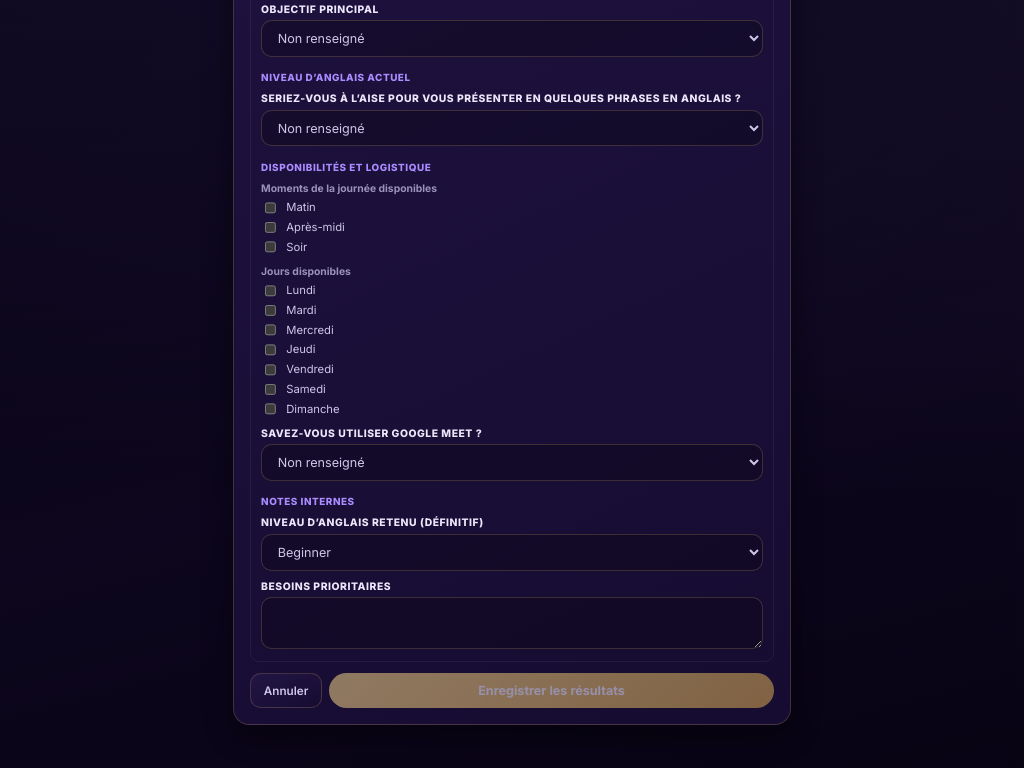
Test: ResultatsSessionOraleModale — l’enregistrement › affiche le refus du serveur plutôt qu’un message générique
(page scrolled)
Select "Advanced" in the dropdown labelled "Niveau d’anglais retenu (définitif)" at (512, 552), box [261,534,763,571]
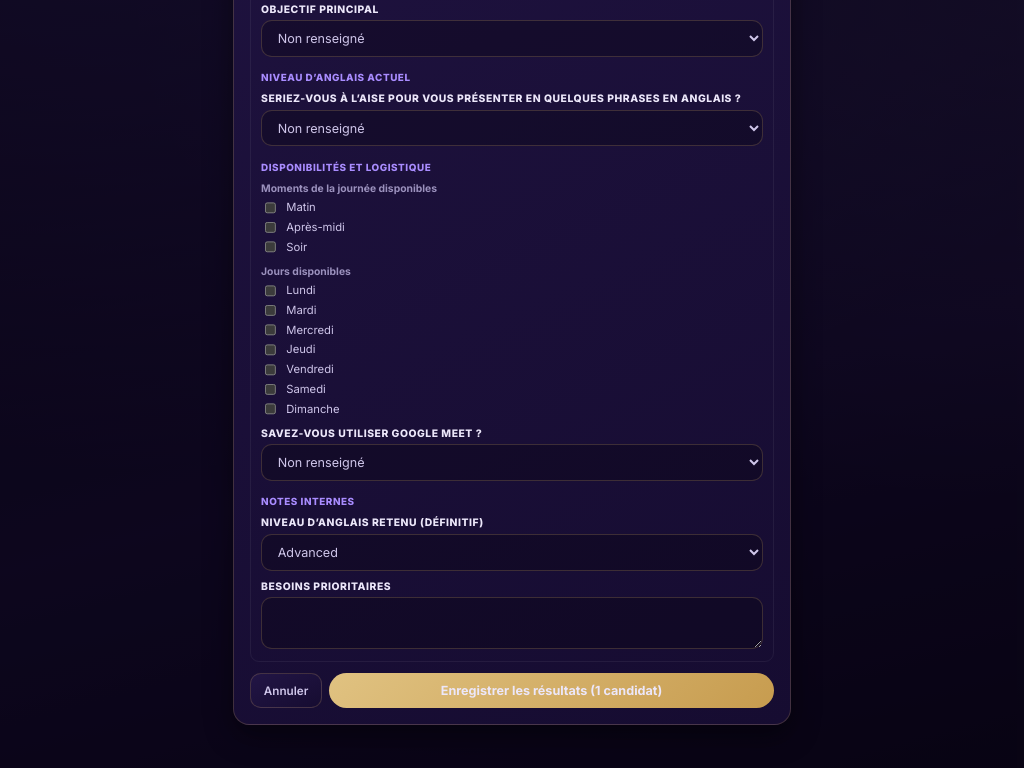
Click the button "Enregistrer les résultats (1 candidat)".
click(551, 691)  # box [329,673,774,708]
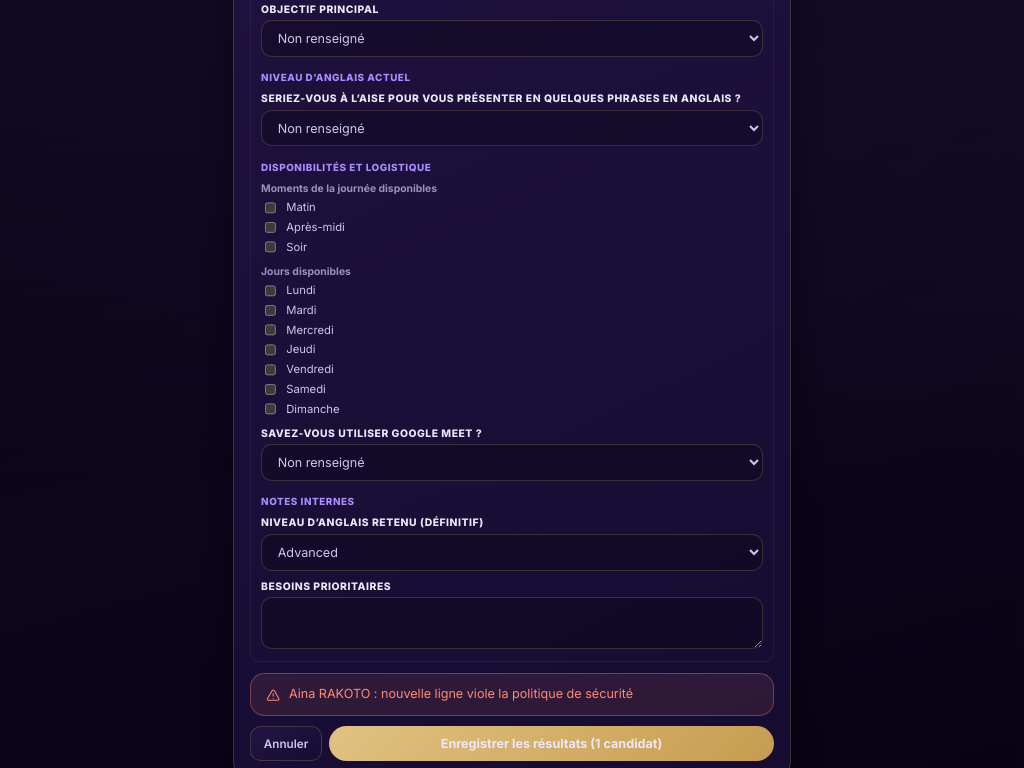
Now the text "Aina RAKOTO : nouvelle ligne viole la politique de sécurité" is shown, box [289,685,633,704]
